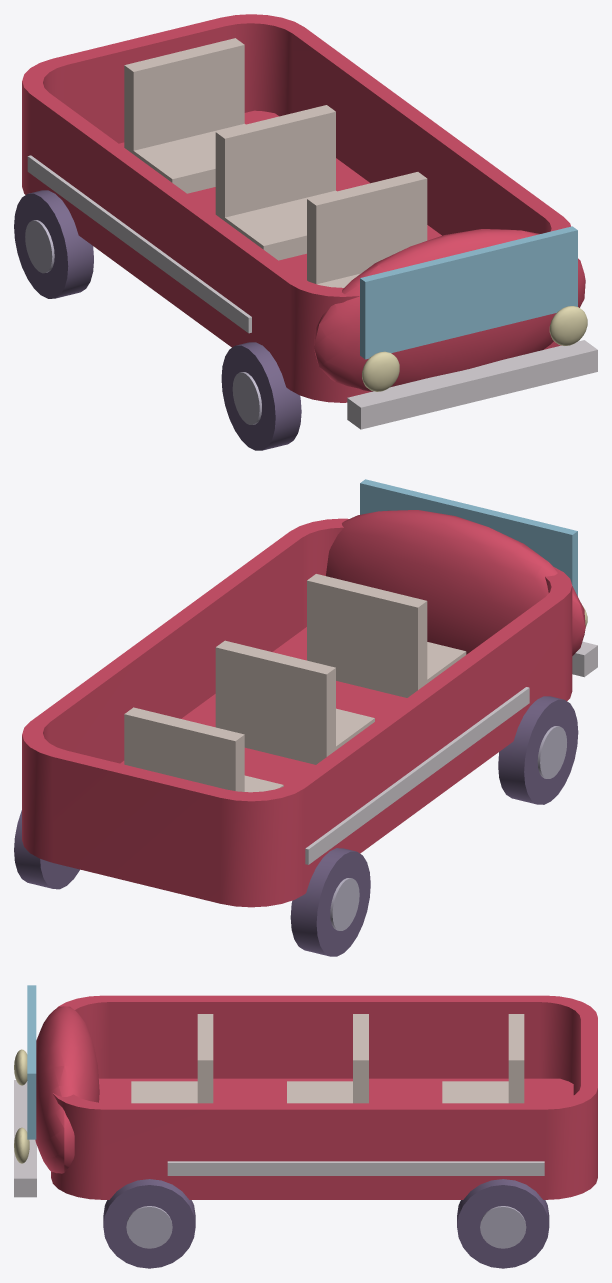
The model's file is Bus_Red.glb.
The picture shows the model from 3 angles, top to bottom: view 1: azimuth 30°, elevation 25°; view 2: azimuth 150°, elevation 25°; view 3: azimuth 270°, elevation 25°; orthographic projection. The views are drawn at different scales.
Visible parts, largest first — view 1: Body, Wheel_1, Wheel_3; view 2: Body, Wheel_3, Wheel_1, Wheel_4; view 3: Body, Wheel_2, Wheel_4.
Boxes of the visible parts, x1,y1,x2,y2 form: Body: (22,14,597,429); Wheel_1: (221,342,301,450); Wheel_3: (14,190,93,298); Body: (22,479,597,907); Wheel_3: (290,848,370,956); Wheel_1: (498,696,578,804); Wheel_4: (14,810,79,889); Body: (14,985,597,1199); Wheel_2: (103,1179,195,1268); Wheel_4: (457,1179,549,1268).
Size of the model in its own units: 2.49 by 1.63 by 4.81.
